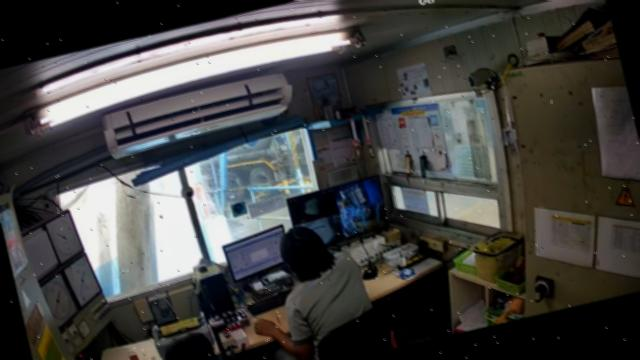Head: (279, 227, 335, 280), (172, 338, 212, 359)
People: (254, 228, 373, 359), (174, 338, 210, 359)
